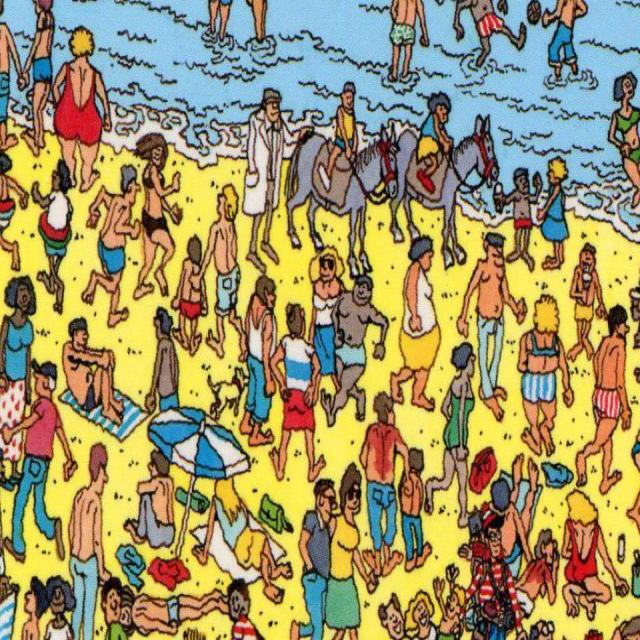waldo: (479, 501, 505, 558)
